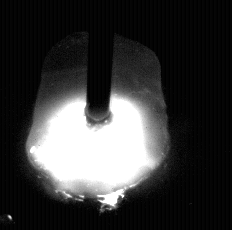arame: (87, 0, 112, 128)
poca: (26, 0, 171, 230)
